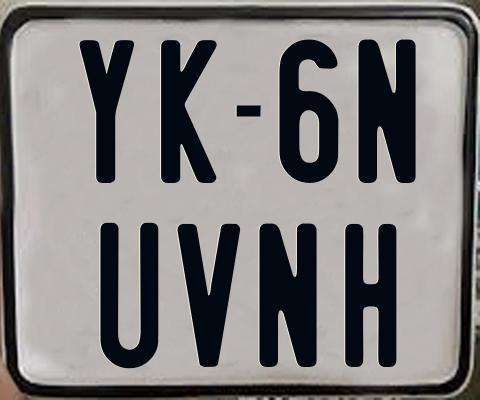6: (277, 37, 341, 183)
H: (342, 223, 396, 369)
K: (161, 40, 222, 189)
N: (358, 38, 418, 185), (259, 220, 317, 370)
U: (97, 221, 160, 366)
V: (177, 223, 242, 370)
Y: (79, 40, 139, 189)
